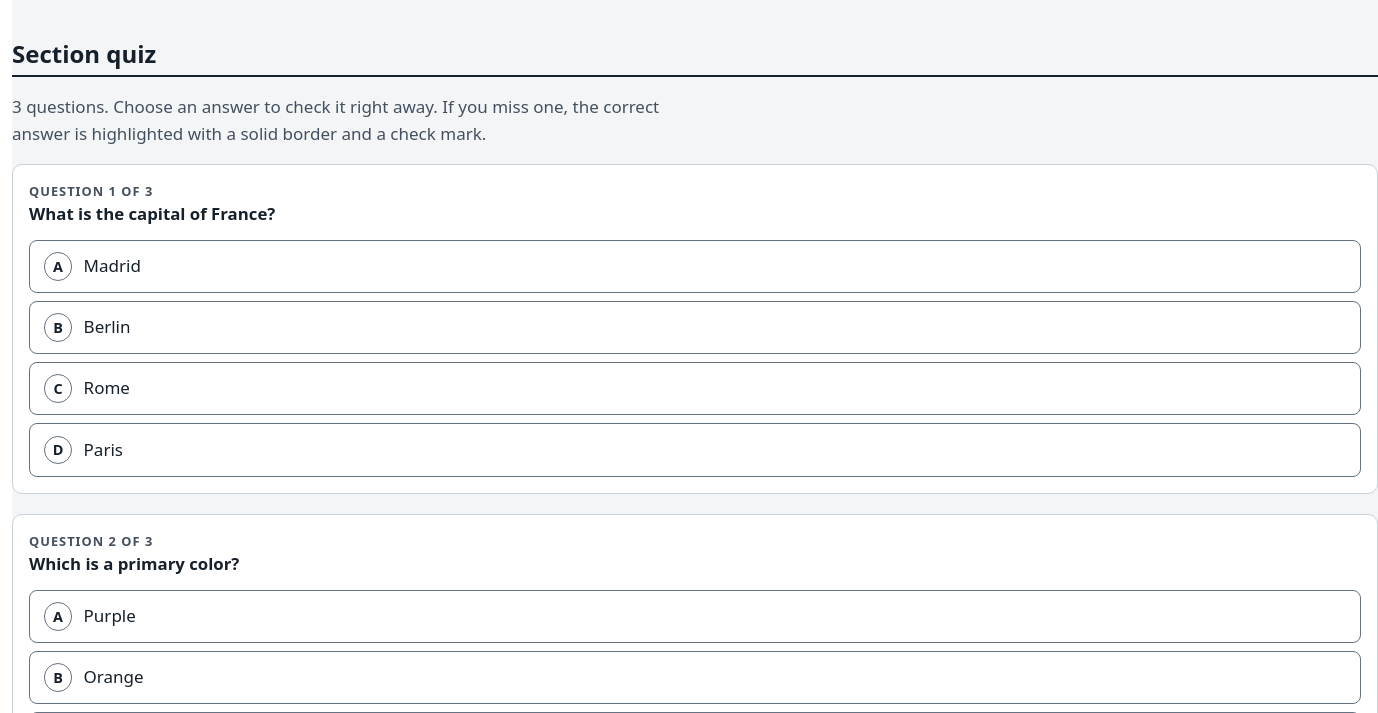
Quiz › highlights the correct answer when the user picks a wrong one
Click the button "B Berlin" at (107, 327), box [29,301,1361,354]
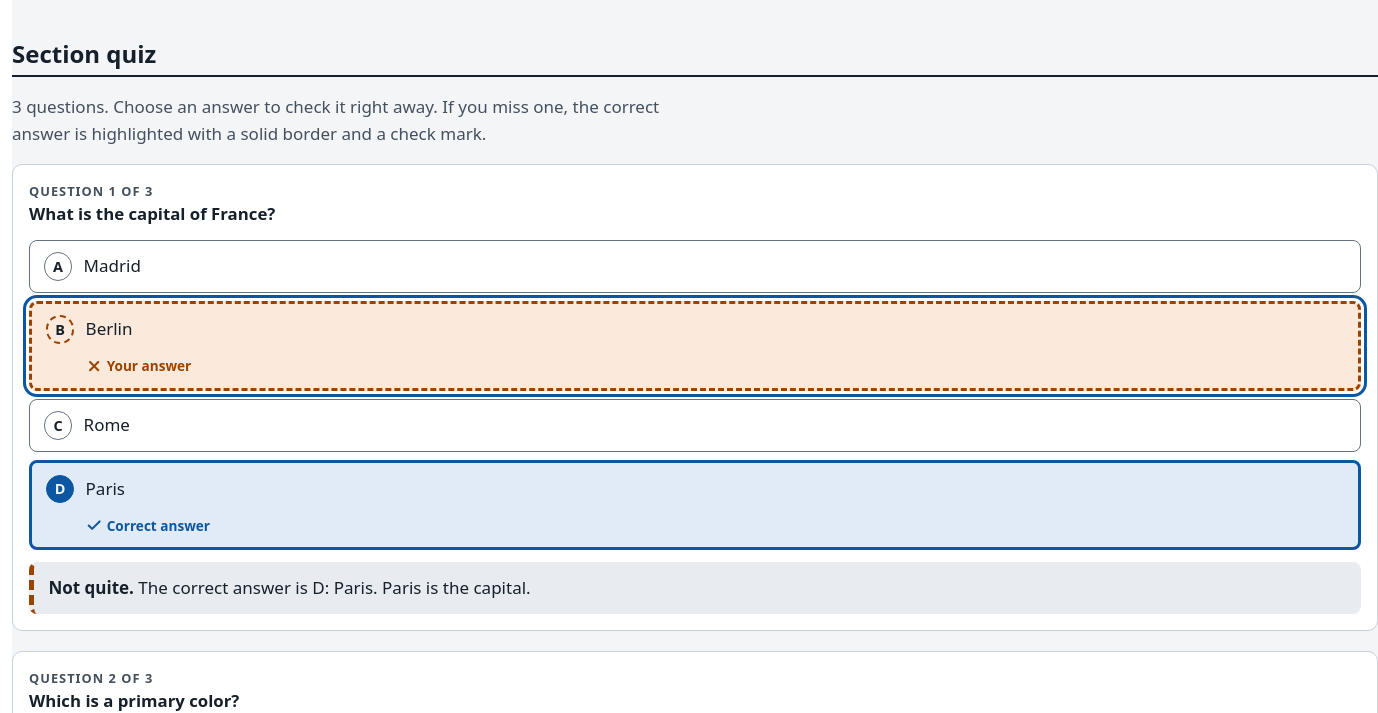
Check: the message with test id "feedback-0" reads "Not quite. The correct answer is D: Paris. Paris is the capital.", box [29,562,1361,614]
